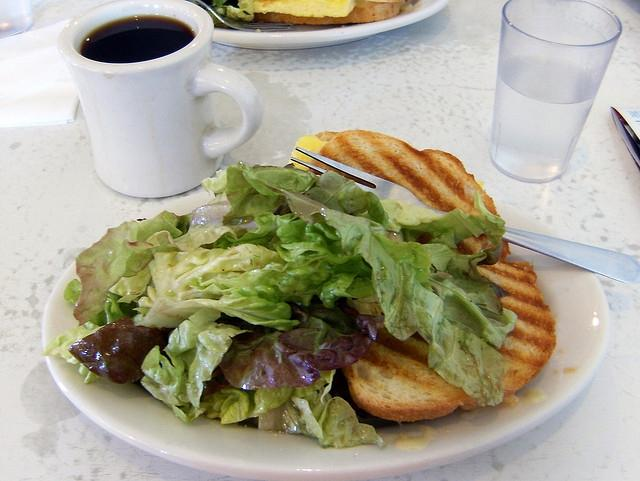lettuce: (232, 166, 518, 406), (189, 213, 375, 308), (214, 295, 384, 391), (133, 243, 301, 332), (73, 210, 184, 326), (140, 308, 252, 408), (68, 316, 178, 384), (205, 1, 255, 24)
